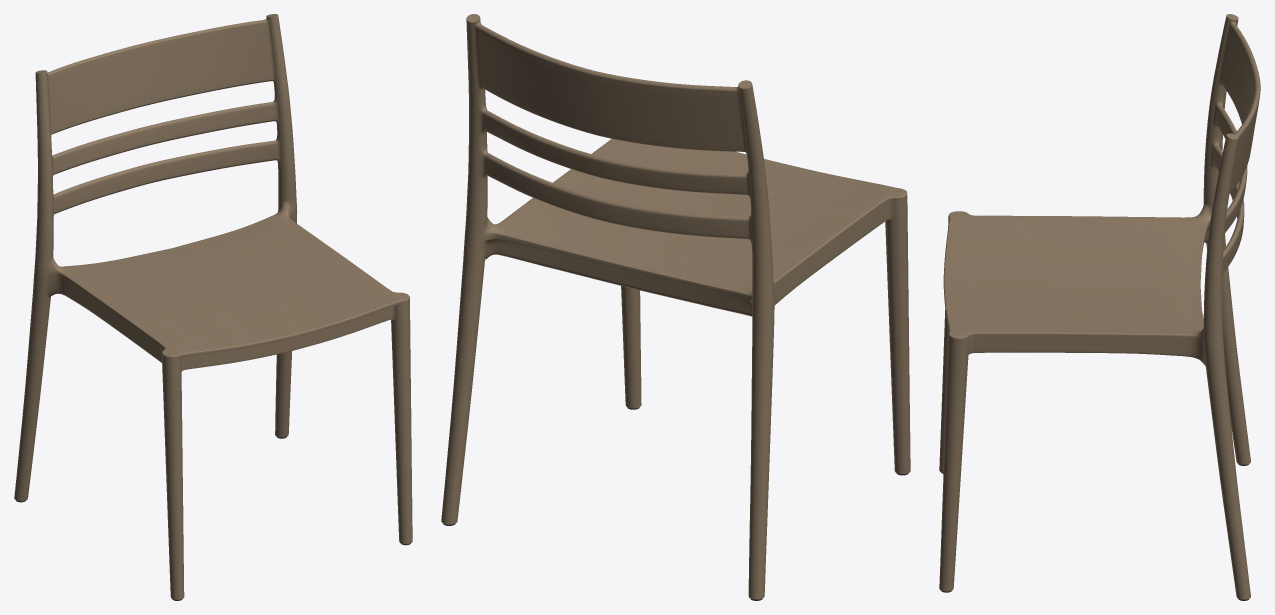
Rendered from abo-B0856G1638.glb.
3 views of the same model, side by side, from view 1: azimuth 30°, elevation 25°; view 2: azimuth 150°, elevation 25°; view 3: azimuth 270°, elevation 25° (orthographic). The views are drawn at different scales.
Size of the model in its own units: 0.531 by 0.8 by 0.511.
1 material, 1 textured.
